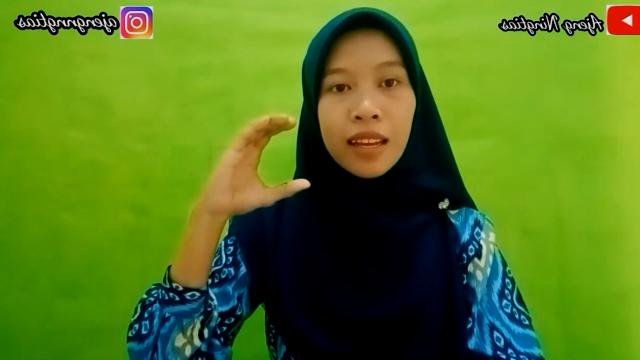C: (199, 114, 313, 216)
